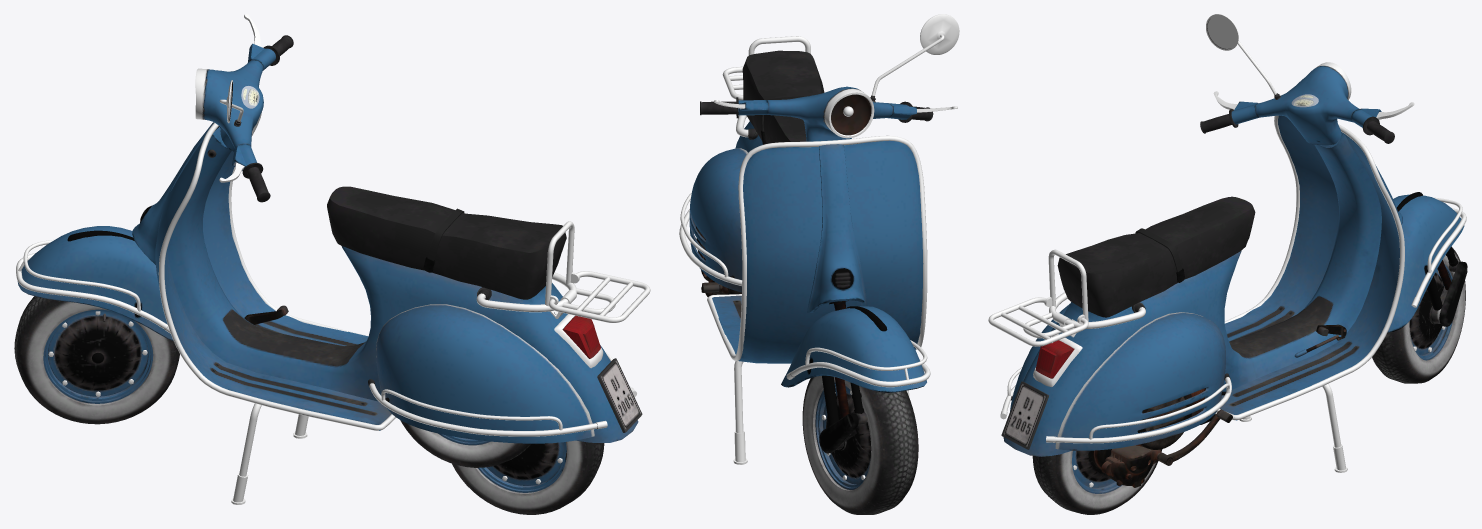
Rendered from bistro_motor.gltf.
The picture shows the model from 3 angles, left to right: view 1: azimuth 30°, elevation 25°; view 2: azimuth 150°, elevation 25°; view 3: azimuth 270°, elevation 25°; orthographic projection. The views are drawn at different scales.
Visible parts, largest first — view 1: Bistro_Research_Exterior__lod0_Vespa_3937; view 2: Bistro_Research_Exterior__lod0_Vespa_3937; view 3: Bistro_Research_Exterior__lod0_Vespa_3937.
Part boxes in pixels (<box>): Bistro_Research_Exterior__lod0_Vespa_3937: <box>14,14,650,514</box>; Bistro_Research_Exterior__lod0_Vespa_3937: <box>679,14,959,514</box>; Bistro_Research_Exterior__lod0_Vespa_3937: <box>988,14,1467,514</box>.
Size of the model in its own units: 2.06 by 2.06 by 2.26.
Materials: 2 (2 with a texture image).
